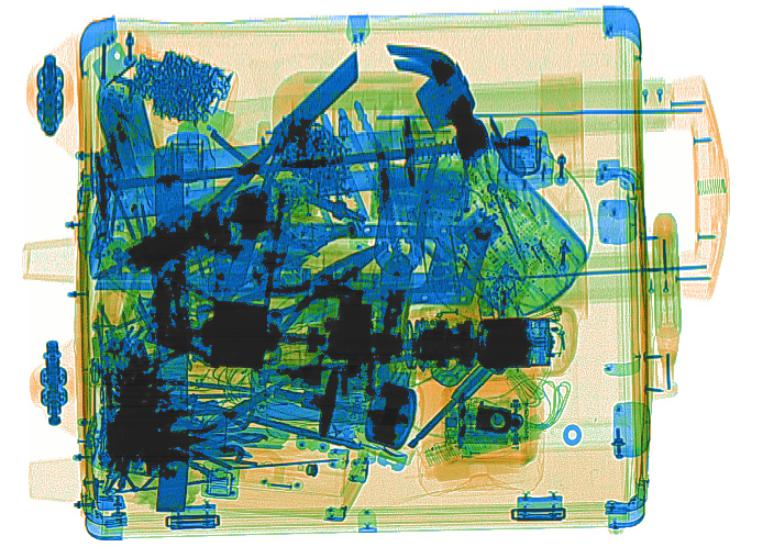battery: (93, 91, 157, 185), (461, 426, 514, 447)
